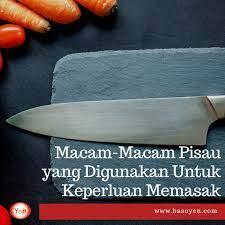knives: (2, 72, 225, 163)
